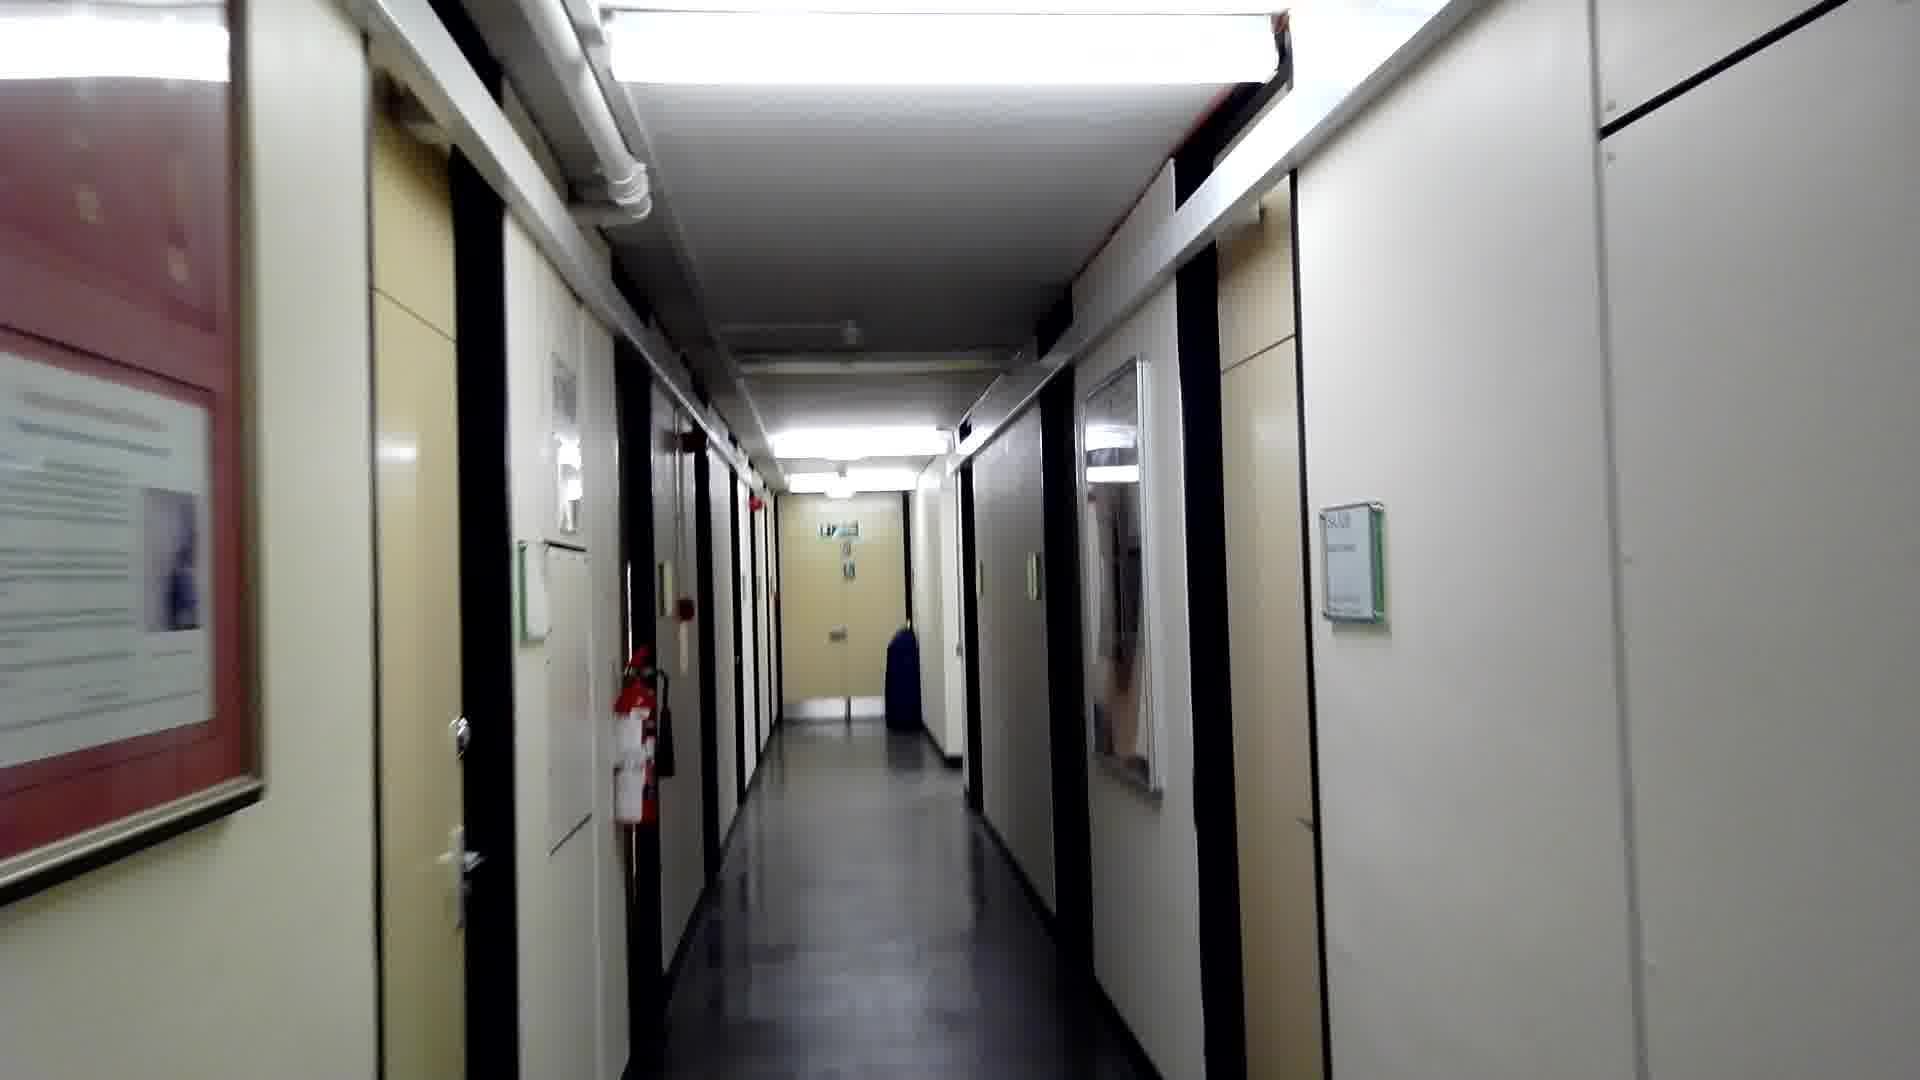Bin: (884, 611, 927, 744)
Door: (352, 32, 524, 1080), (1160, 152, 1348, 1080)
